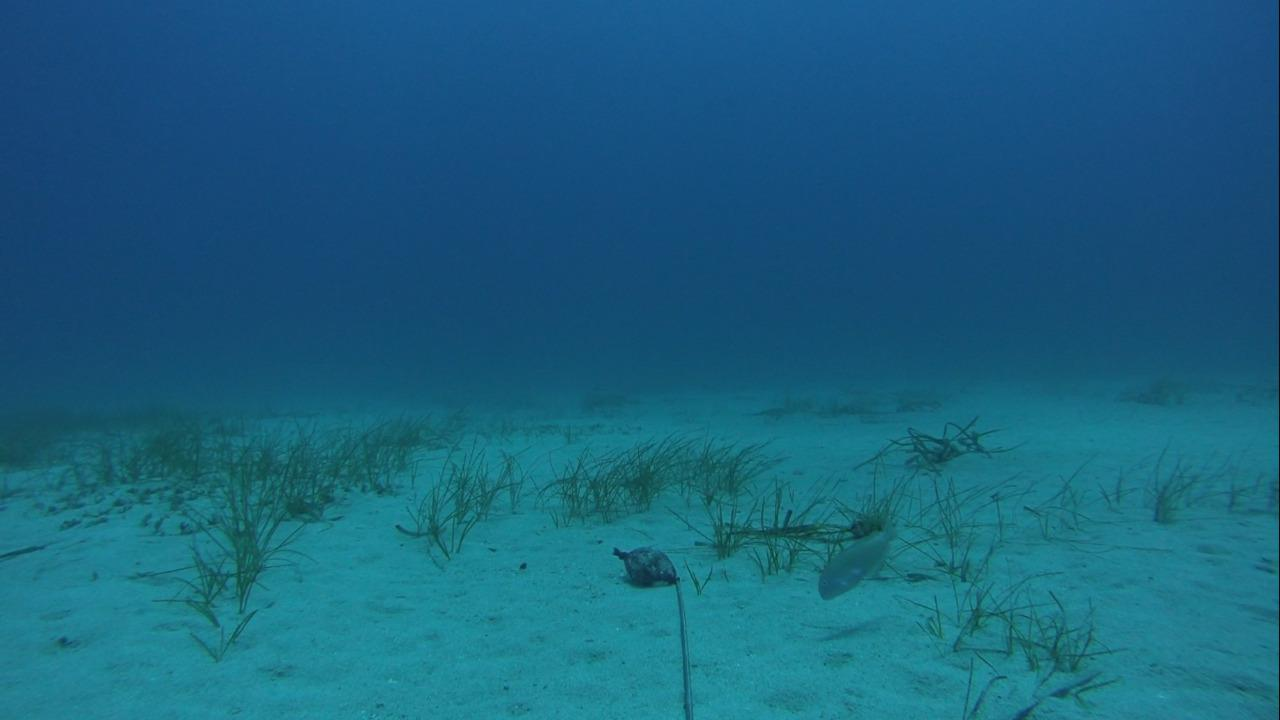raor: (813, 515, 898, 603)
